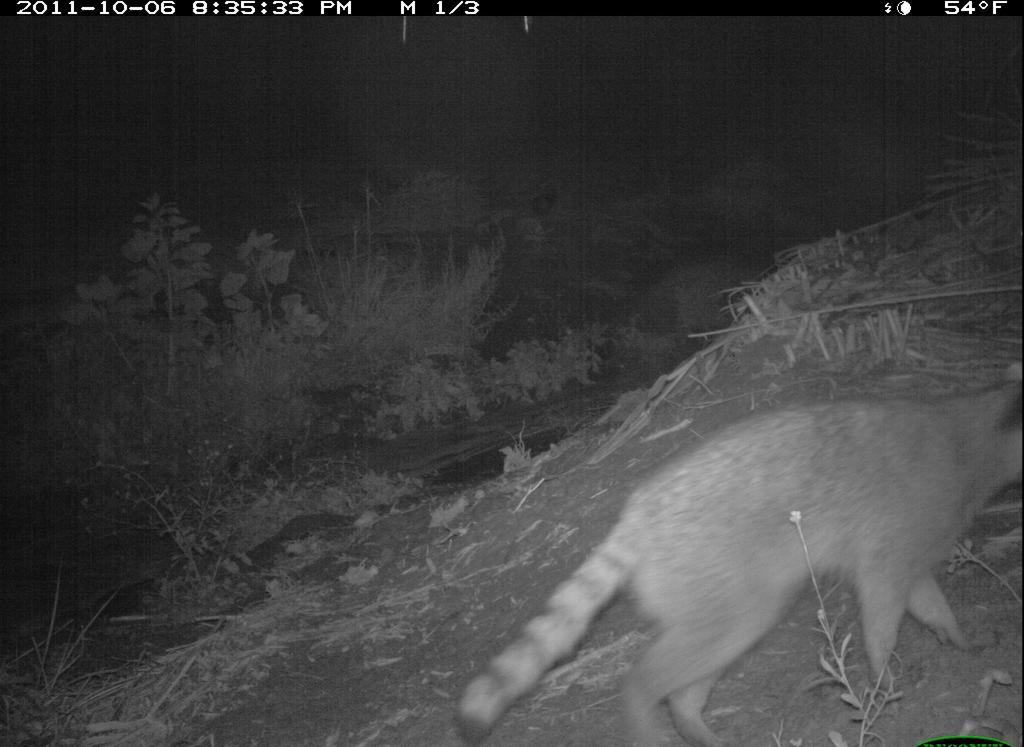raccoon: (450, 361, 1023, 745)
